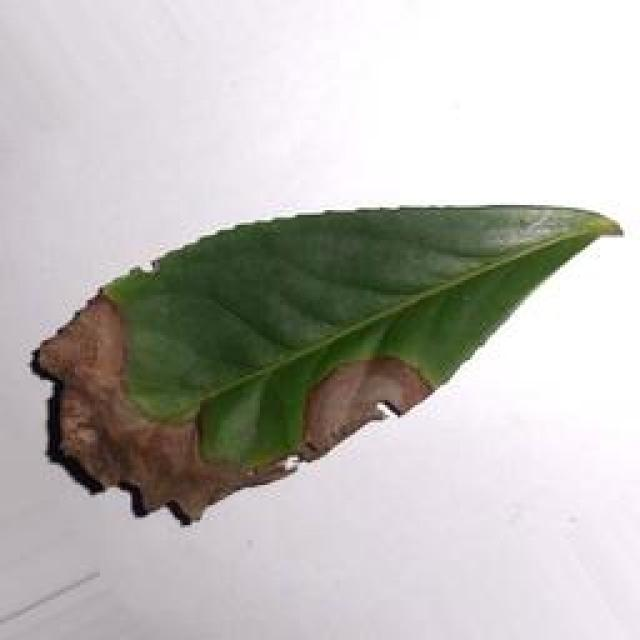Brown Blight: (27, 187, 640, 527)
